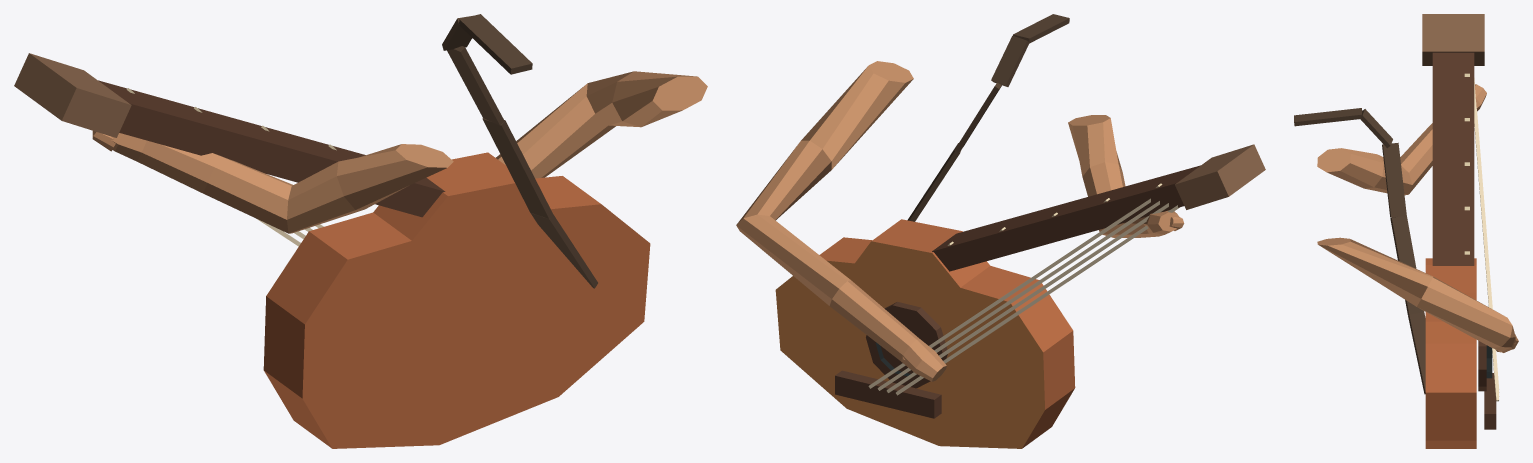
The model's file is lwf_guitarist_male_kit_v1.glb.
3 renders of one model, left to right at view 1: azimuth 30°, elevation 25°; view 2: azimuth 150°, elevation 25°; view 3: azimuth 270°, elevation 25°, orthographic. The views are drawn at different scales.
Visible parts, largest first — view 1: LWF_Guitarist_AcousticGuitar, LWF_Guitarist_LeftPlayingArm, LWF_Guitarist_RightPlayingArm, LWF_Fitted_LeatherStrap; view 2: LWF_Guitarist_AcousticGuitar, LWF_Guitarist_RightPlayingArm, LWF_Guitarist_LeftPlayingArm, LWF_Fitted_LeatherStrap; view 3: LWF_Guitarist_AcousticGuitar, LWF_Guitarist_RightPlayingArm, LWF_Fitted_LeatherStrap, LWF_Guitarist_LeftPlayingArm.
Boxes of the visible parts, x1,y1,x2,y2 form: LWF_Guitarist_AcousticGuitar: (14, 53, 650, 448); LWF_Guitarist_LeftPlayingArm: (92, 131, 453, 233); LWF_Guitarist_RightPlayingArm: (496, 71, 707, 178); LWF_Fitted_LeatherStrap: (442, 14, 597, 288); LWF_Guitarist_AcousticGuitar: (775, 144, 1265, 448); LWF_Guitarist_RightPlayingArm: (736, 61, 946, 381); LWF_Guitarist_LeftPlayingArm: (1068, 115, 1184, 237); LWF_Fitted_LeatherStrap: (907, 14, 1069, 221); LWF_Guitarist_AcousticGuitar: (1422, 14, 1499, 448); LWF_Guitarist_RightPlayingArm: (1317, 237, 1518, 352); LWF_Fitted_LeatherStrap: (1294, 108, 1425, 394); LWF_Guitarist_LeftPlayingArm: (1317, 84, 1486, 195).
Bounding box in the file's own units: 1.01 × 0.733 × 0.4876.
Materials: 3 (3 with a texture image).
